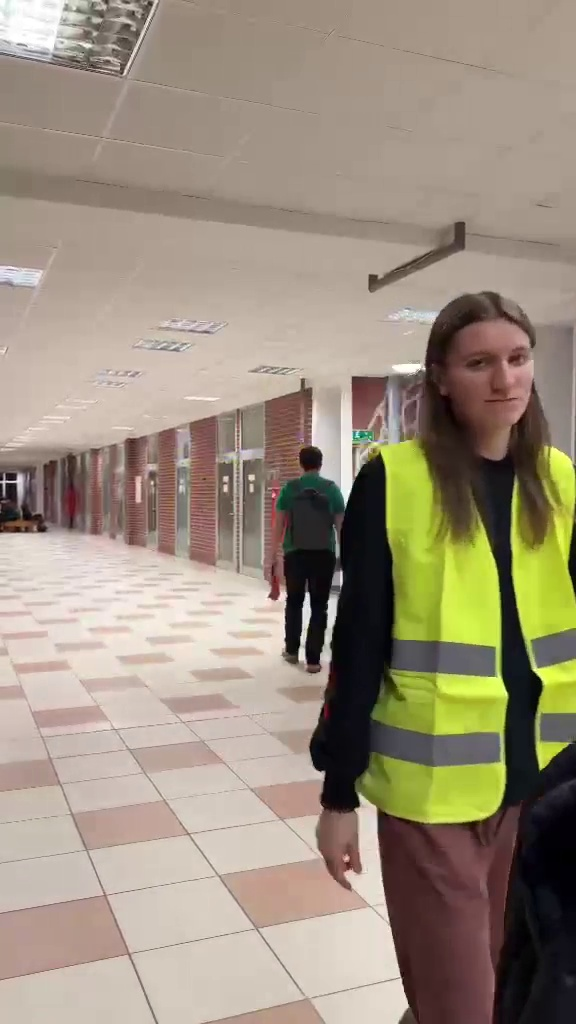no vest: (269, 437, 346, 667)
vest: (358, 290, 576, 999)
